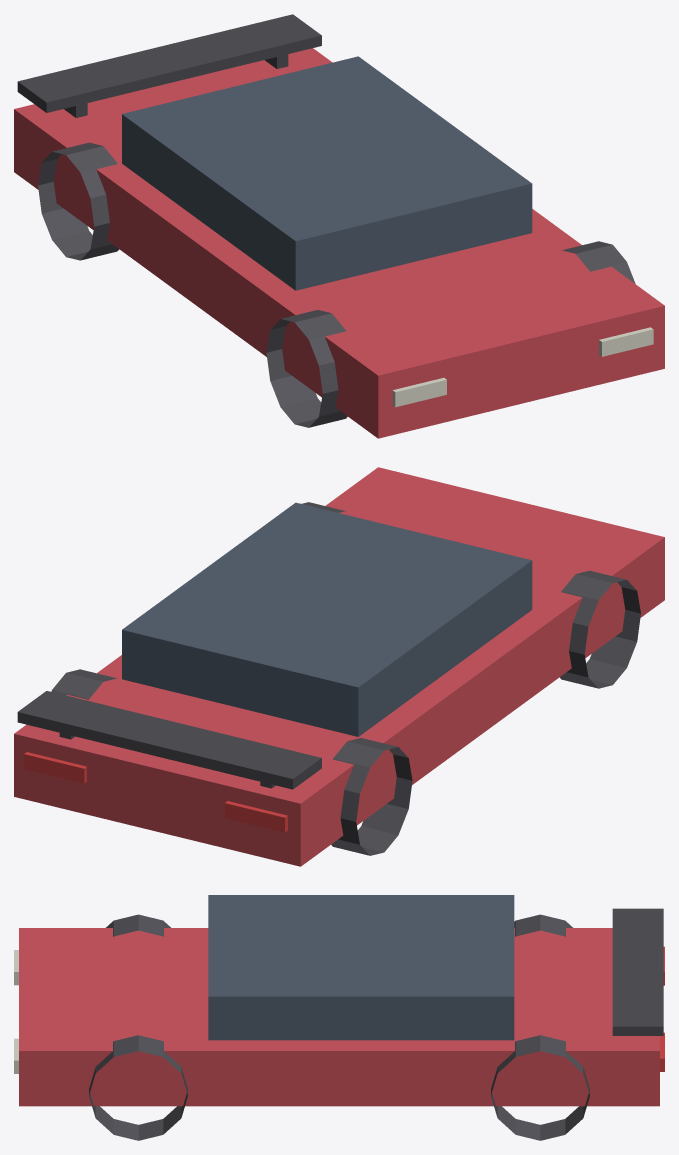
Rendered from vehicle_sportscar.glb.
3 views of the same model, one above another, from view 1: azimuth 30°, elevation 25°; view 2: azimuth 150°, elevation 25°; view 3: azimuth 270°, elevation 25° (orthographic). The views are drawn at different scales.
Parts seen in each view (by area): view 1: ZentornoSportsCar; view 2: ZentornoSportsCar; view 3: ZentornoSportsCar.
Part boxes in pixels (left/top/right/bottom): ZentornoSportsCar: left=14, top=14, right=664, bottom=438; ZentornoSportsCar: left=14, top=467, right=664, bottom=866; ZentornoSportsCar: left=14, top=895, right=664, bottom=1140.
Bounding box in the file's own units: 2.22 × 0.96 × 4.47.
